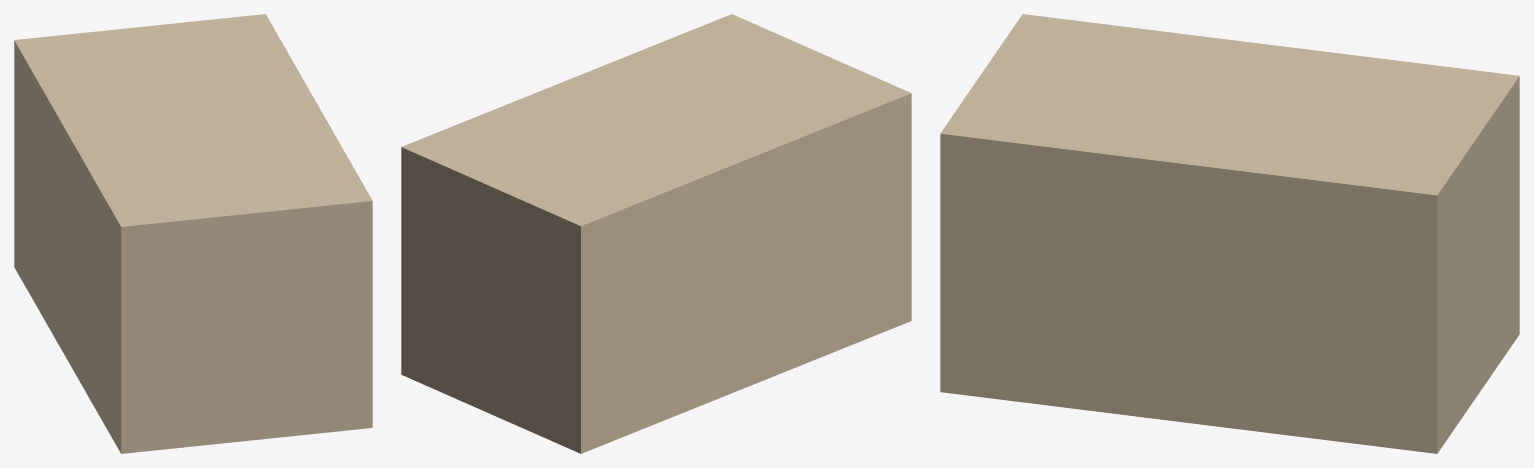
The model's file is -3_5-estimated-coarse.glb.
3 views of the same model, side by side, from view 1: azimuth 30°, elevation 25°; view 2: azimuth 150°, elevation 25°; view 3: azimuth 270°, elevation 25° (orthographic). The views are drawn at different scales.
Size of the model in its own units: 18.08 by 12 by 24.38.
